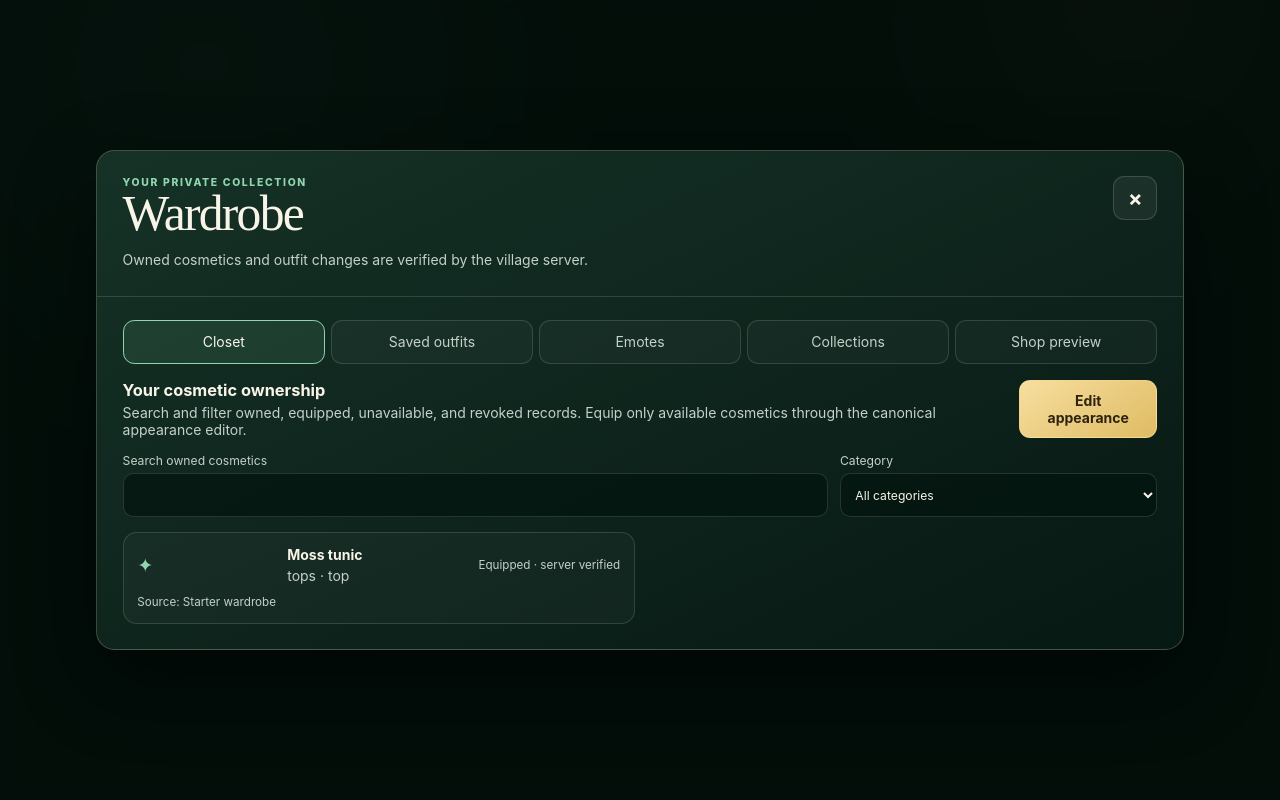
Scenario: PremiumWardrobe › shows only authoritative ownership, five revision-safe slots, and a structurally disabled shop
Click the button "Saved outfits" at (432, 342), box [331, 320, 533, 364]
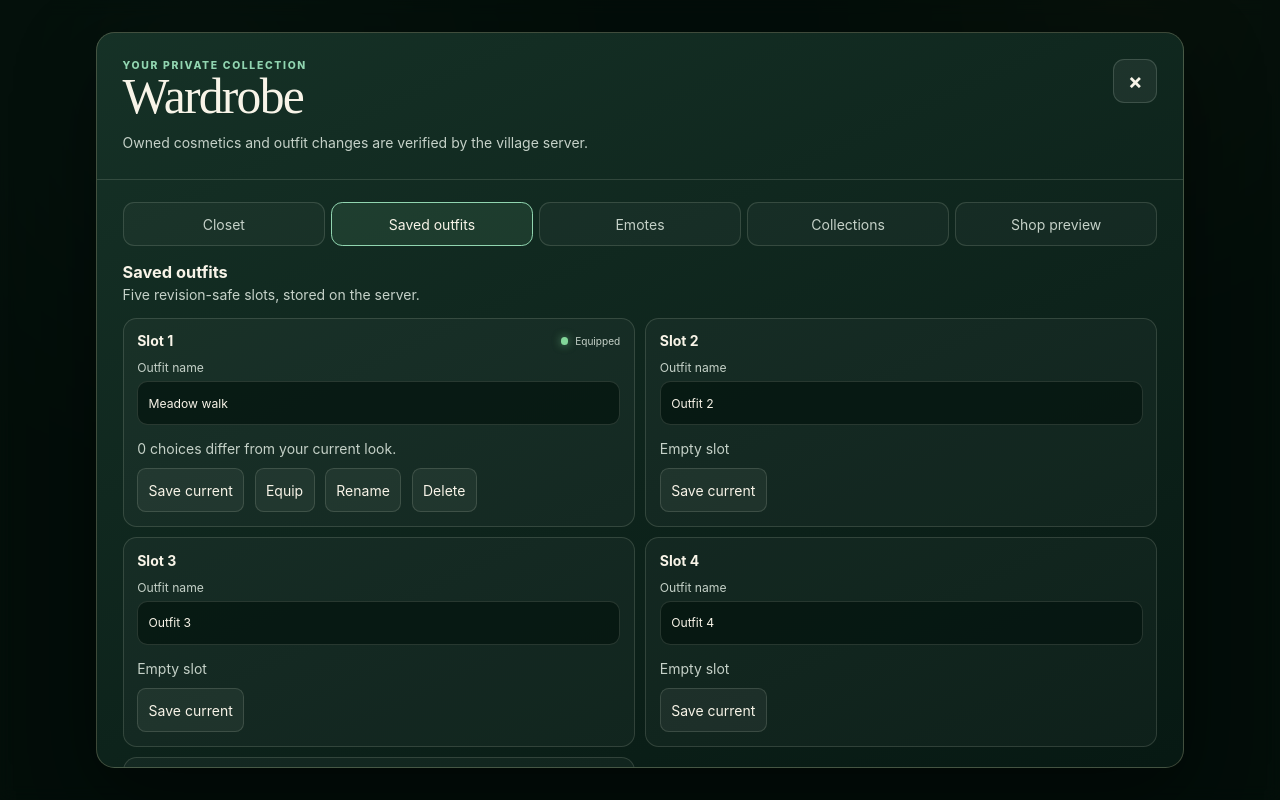
Result: the text "Five revision-safe slots" is shown at [123, 286, 420, 303]
Click the button "Shop preview" at (1056, 224), box [955, 202, 1157, 246]
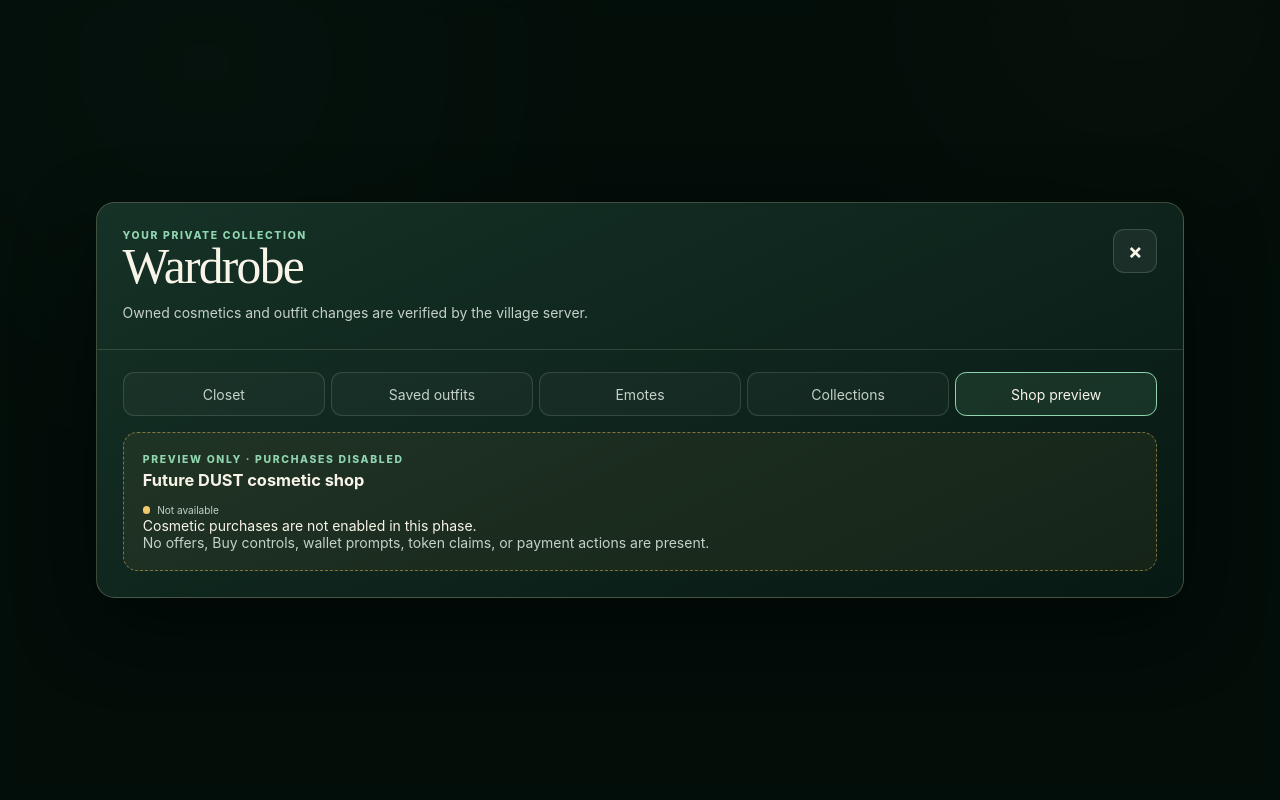
Result: the text "Purchases disabled" is shown at [143, 453, 404, 466]
Result: the text "No offers, Buy controls, wallet prompts" is shown at [143, 534, 709, 551]
